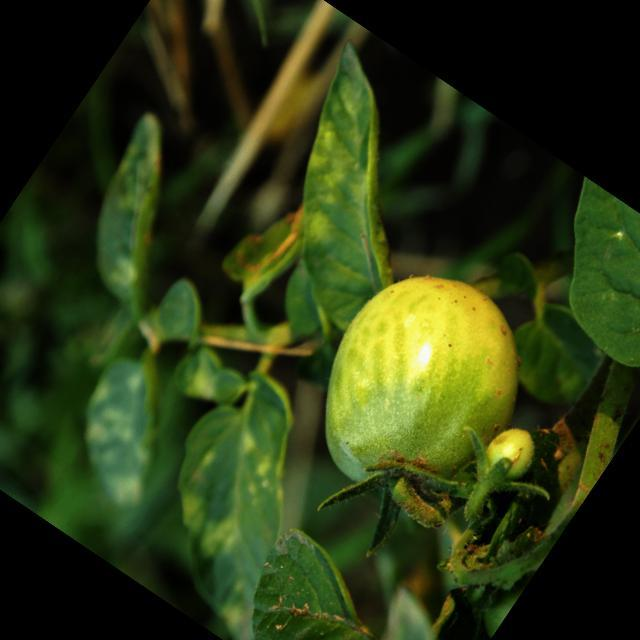Tomato mosaic virus leaf: (206, 39, 494, 346), (98, 350, 390, 640), (28, 330, 225, 541)
